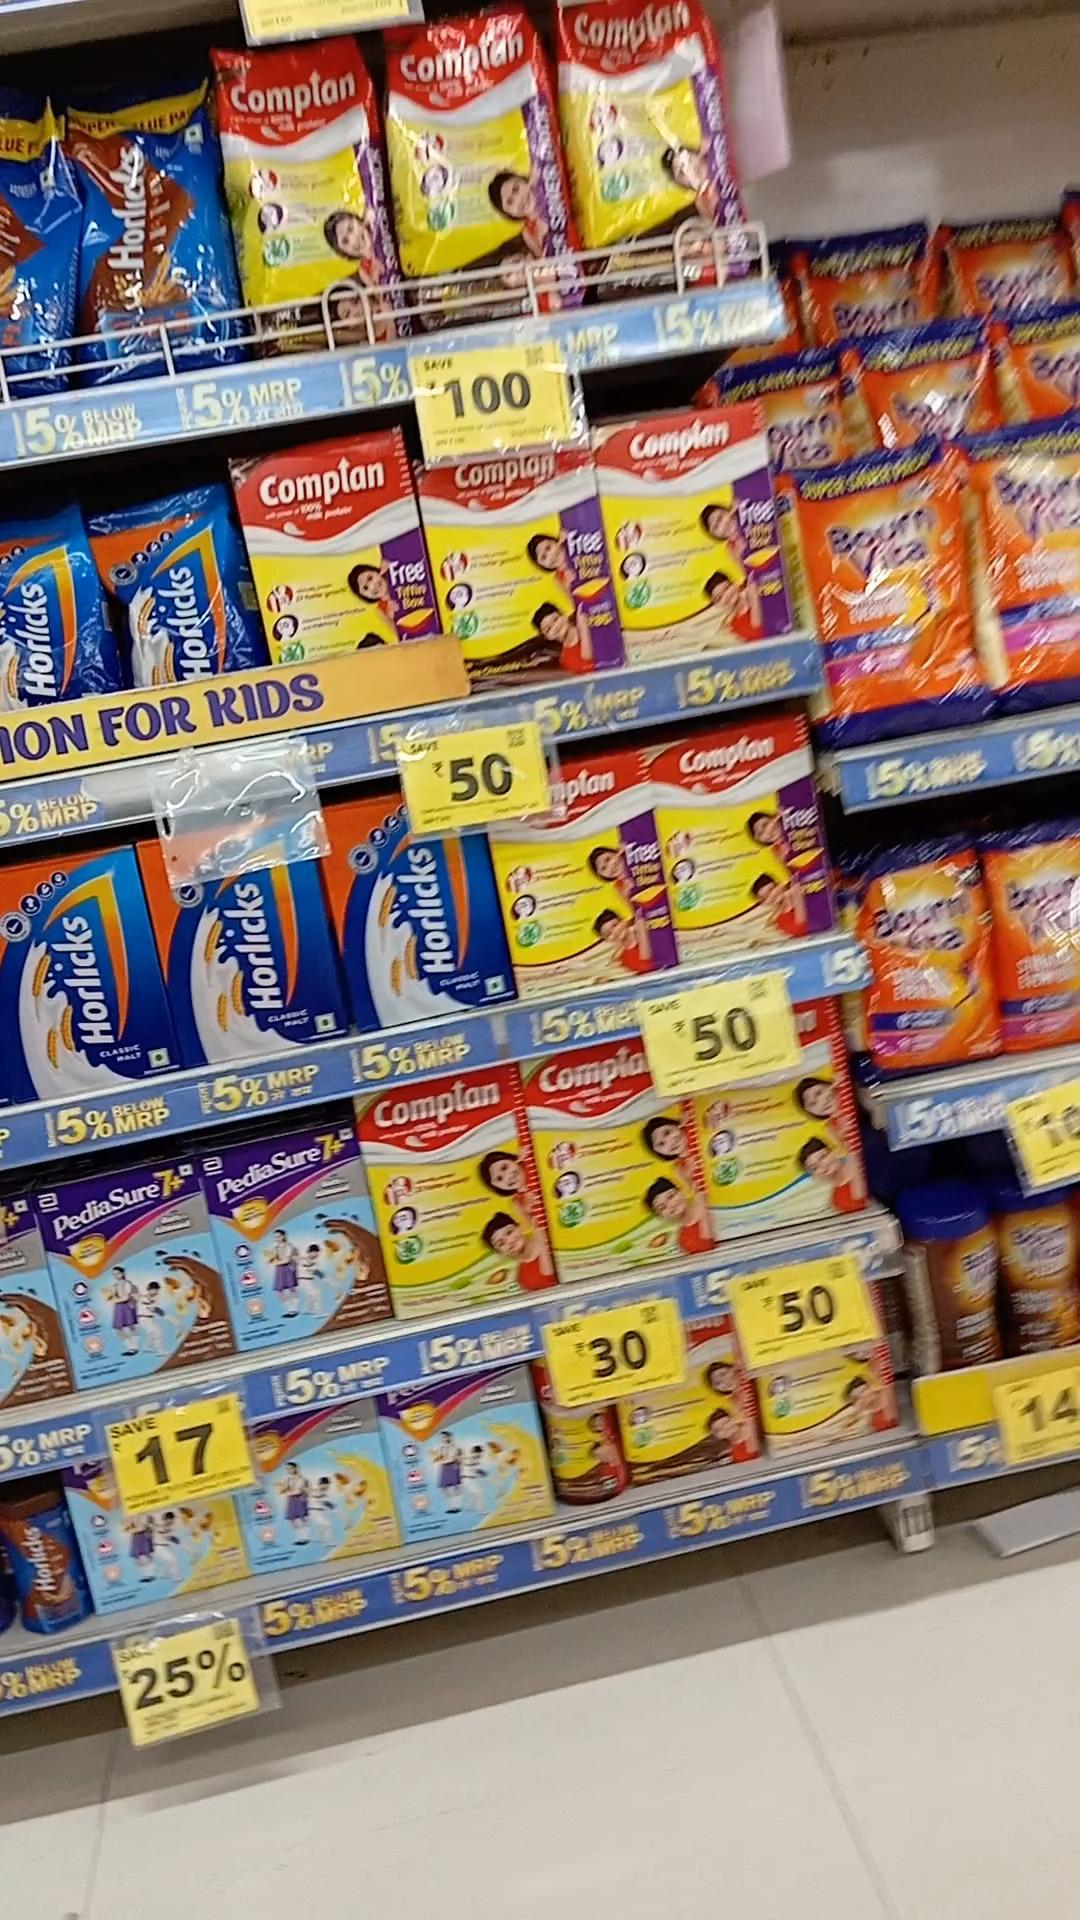BOURN_VITA_1_KG_POUCH: (837, 447, 982, 736), (992, 414, 1080, 711)
BOURN_VITA_500_G_POUCH: (864, 832, 994, 1069), (1000, 811, 1080, 1052)
BOURN_VITA_FIVE_STAR_MAGIC_500_G_JAR: (913, 1182, 996, 1362), (997, 1183, 1080, 1348)
COMPLAN_CHOCOLATE_500_GMS_PACK: (438, 450, 605, 683)
COMPLAN_KESAR_BADAM_500_GMS_PACK: (609, 406, 790, 650), (671, 715, 836, 964), (514, 769, 663, 989)
COMPLAN_PISTA_BADAM_500_GMS_PACK: (538, 1038, 709, 1278), (377, 1065, 534, 1309)
COMPLAN_RC_POUCH_700_GMS_12: (560, 0, 752, 282), (224, 40, 393, 352), (397, 9, 562, 311)
HORLICK_CHOCOLATE_200_G_JAR: (1, 1481, 83, 1635)
HORLICK_CHOCOLATE_750_G_POUCH: (76, 87, 220, 373)
HORLICK_CLASSIC_MALT_500_G_PACK: (0, 844, 157, 1096), (165, 831, 334, 1055), (344, 800, 510, 1013)
